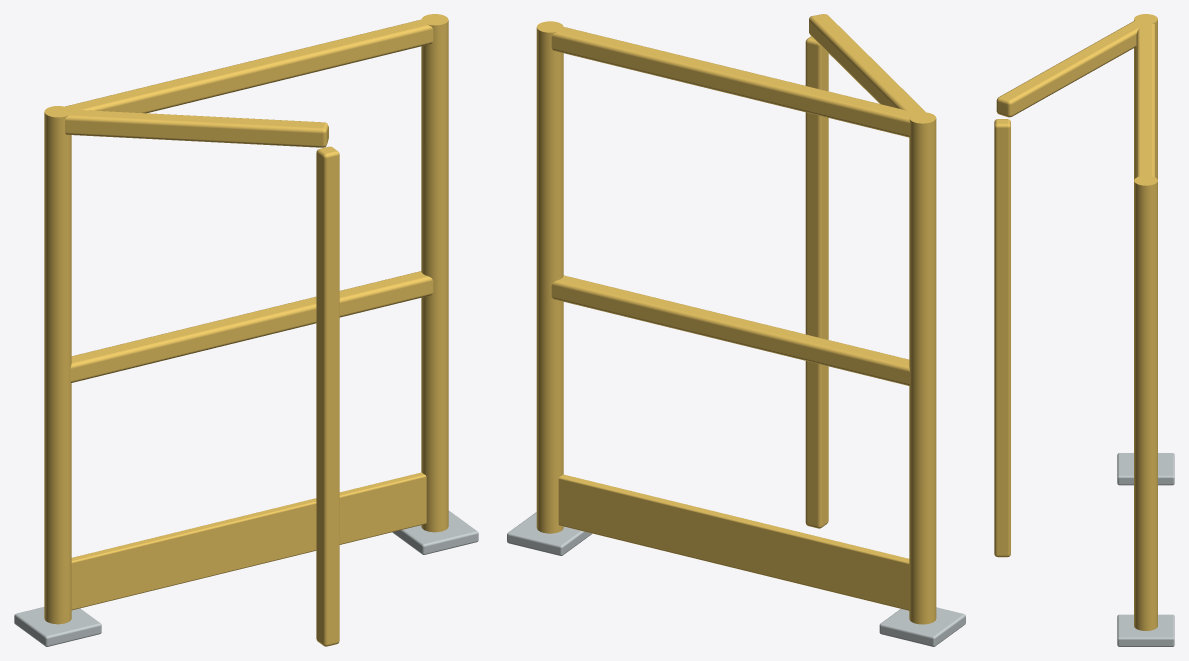
Rendered from hydroelectric-dam-infiltration-rail-end-8e36b048__29370.glb.
3 views of the same model, side by side, from view 1: azimuth 30°, elevation 25°; view 2: azimuth 150°, elevation 25°; view 3: azimuth 270°, elevation 25° (orthographic). The views are drawn at different scales.
Parts seen in each view (by area): view 1: rail-end; view 2: rail-end; view 3: rail-end.
Boxes of the visible parts, <box> form: rail-end: <box>14,14,478,646</box>; rail-end: <box>507,14,965,646</box>; rail-end: <box>994,14,1174,646</box>.
Bounding box in the file's own units: 0.92 × 1.05 × 0.3775.
